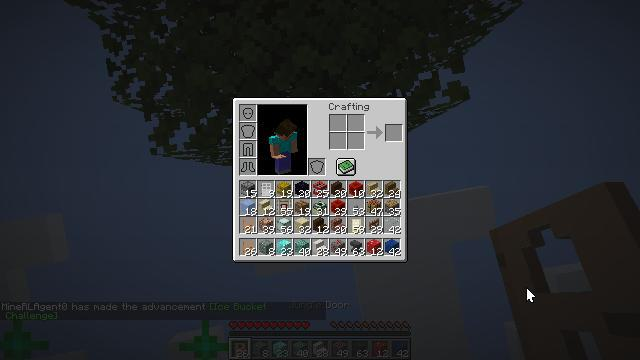cursor: (526, 287, 536, 303)
